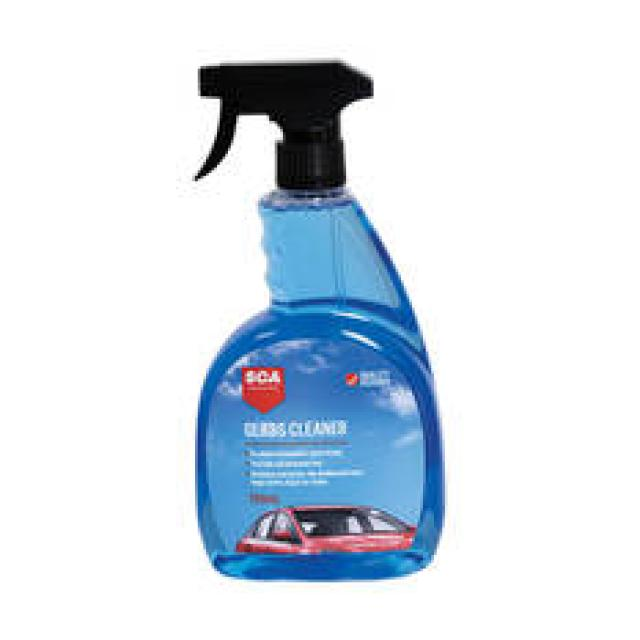winwinshield_washer: (190, 59, 444, 589)
